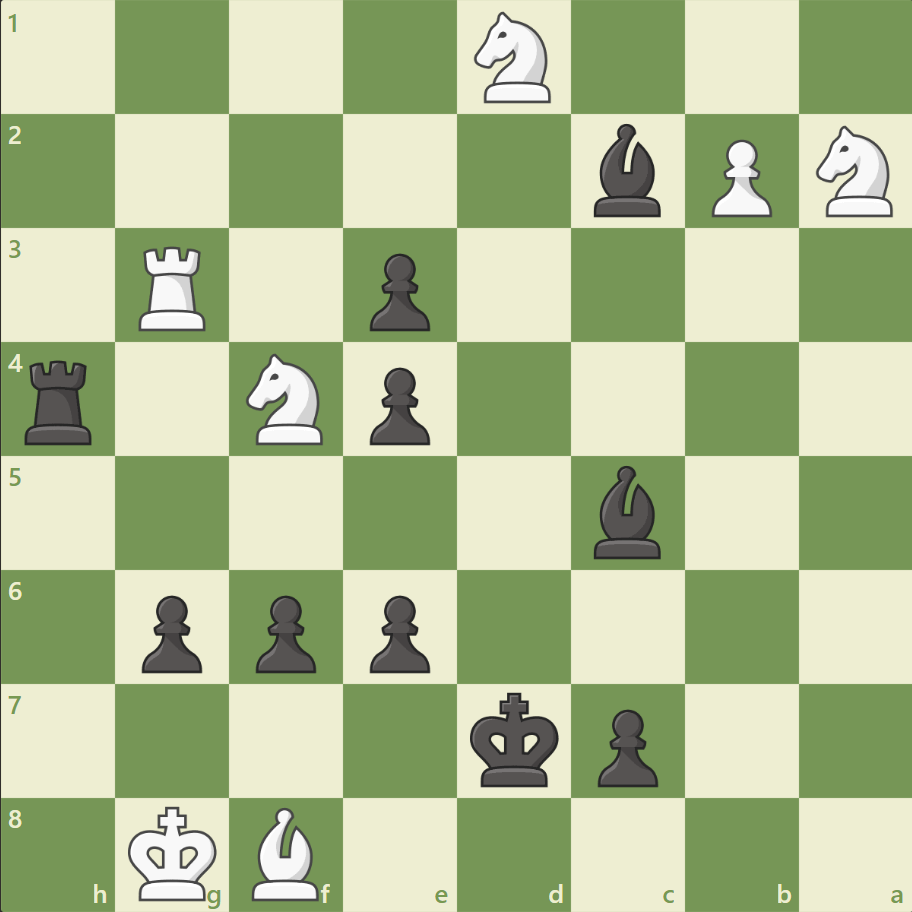B: (244, 801, 328, 904)
K: (124, 798, 224, 906)
N: (465, 7, 562, 110), (238, 348, 335, 450), (806, 121, 903, 223)
P: (701, 132, 776, 223)
R: (133, 239, 215, 336)
b: (585, 460, 669, 563), (585, 120, 669, 222)
k: (465, 685, 565, 793)
p: (247, 586, 322, 677), (133, 586, 208, 677), (588, 700, 662, 791), (361, 586, 435, 677), (361, 359, 435, 450), (361, 246, 435, 337)
r: (19, 352, 102, 449)
